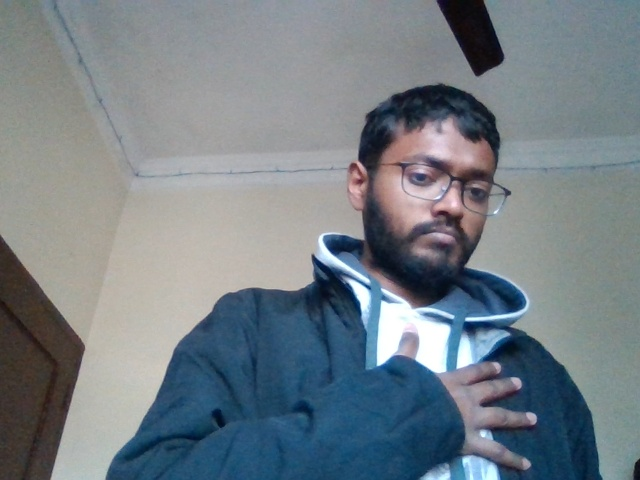please: (396, 330, 539, 473)
